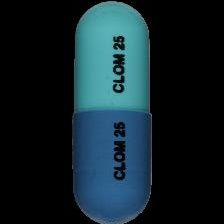60429-287: (0, 0, 224, 224)
